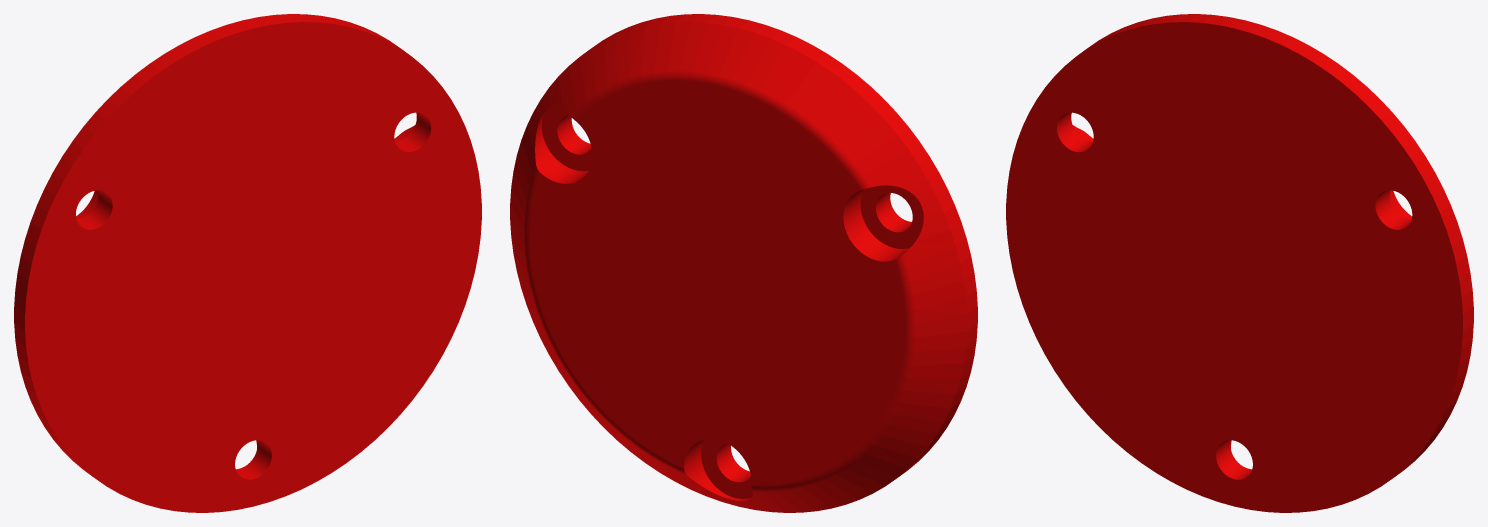
File: Tapa4M1.001.dae
The picture shows the model from 3 angles, left to right: view 1: azimuth 30°, elevation 25°; view 2: azimuth 150°, elevation 25°; view 3: azimuth 330°, elevation 25°; orthographic projection.
Parts seen in each view (by area): view 1: Tapa4M1R; view 2: Tapa4M1R; view 3: Tapa4M1R.
Boxes of the visible parts, x1,y1,x2,y2 form: Tapa4M1R: (14,14,481,512); Tapa4M1R: (510,14,977,512); Tapa4M1R: (1006,14,1473,512).
Size of the model in its own units: 38.48 by 4.6 by 38.5.
